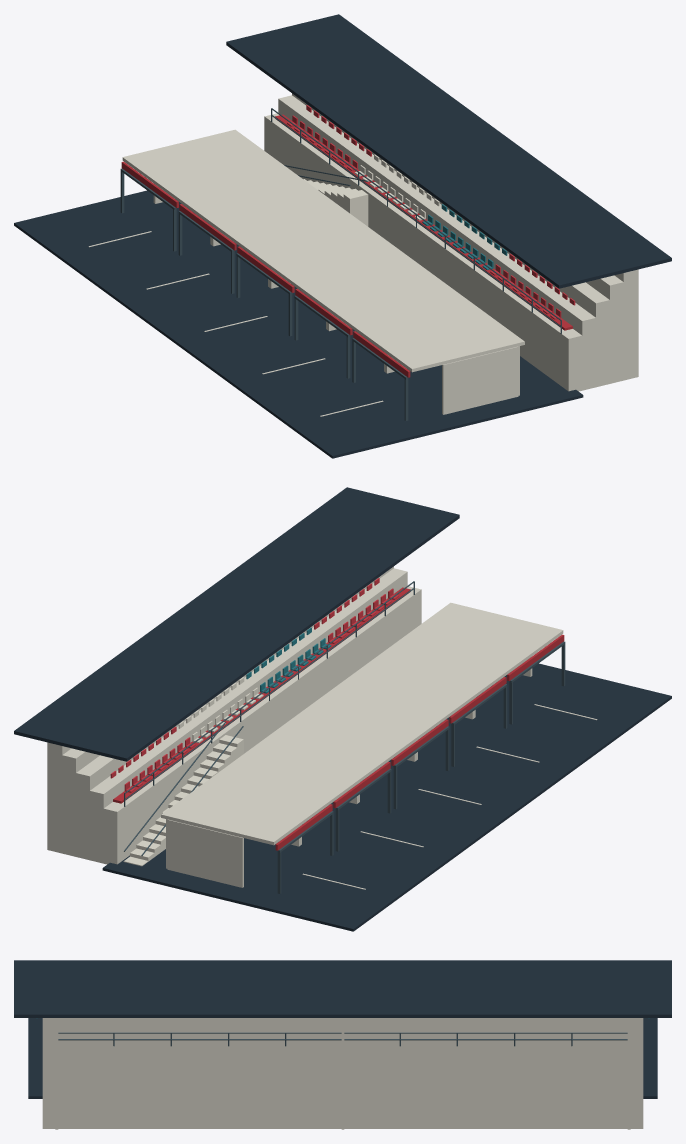
The model's file is pit_grandstand_refined.glb.
The picture shows the model from 3 angles, top to bottom: view 1: azimuth 30°, elevation 25°; view 2: azimuth 150°, elevation 25°; view 3: azimuth 270°, elevation 25°; orthographic projection.
Parts seen in each view (by area): view 1: PitGrandstandRefined; view 2: PitGrandstandRefined; view 3: PitGrandstandRefined.
Part boxes in pixels (left/top/right/bottom): PitGrandstandRefined: left=14, top=14, right=671, bottom=458; PitGrandstandRefined: left=14, top=487, right=671, bottom=931; PitGrandstandRefined: left=14, top=960, right=671, bottom=1129.
Size of the model in its own units: 26.5 by 9.52 by 46.
